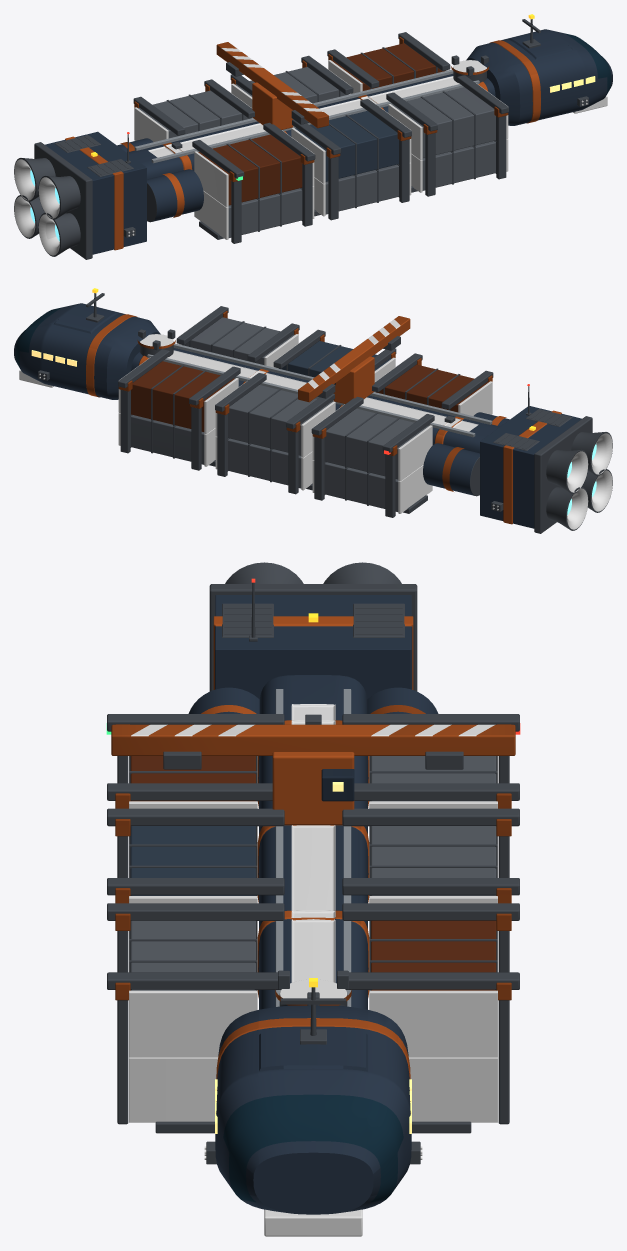
Rendered from atlas_production_v1.glb.
3 views of the same model, one above another, from view 1: azimuth 30°, elevation 25°; view 2: azimuth 150°, elevation 25°; view 3: azimuth 270°, elevation 25° (orthographic). The views are drawn at different scales.
Parts seen in each view (by area): view 1: LOD0_Mechanical, LOD0_Hull, LOD0_Armor, LOD0_MechanicalDark, LOD0_Armor_orange, LOD0_Armor_navy, LOD0_HOOK_SECONDARY_CRANE_Warning, LOD0_Livery, LOD0_BrushedMetal, LOD0_Warning, LOD0_CANOPY, LOD0_HOOK_SECONDARY_CRANE_MechanicalDark; view 2: LOD0_Mechanical, LOD0_Hull, LOD0_Armor, LOD0_MechanicalDark, LOD0_Armor_orange, LOD0_HOOK_SECONDARY_CRANE_Warning, LOD0_Livery, LOD0_BrushedMetal, LOD0_Armor_navy, LOD0_Warning, LOD0_CANOPY; view 3: LOD0_Mechanical, LOD0_Hull, LOD0_MechanicalDark, LOD0_Armor, LOD0_HOOK_SECONDARY_CRANE_Warning, LOD0_CANOPY, LOD0_Armor_orange, LOD0_Armor_navy, LOD0_Livery, LOD0_Warning, LOD0_BrushedMetal, LOD0_HOOK_SECONDARY_CRANE_Mechanical (+3 smaller).
Part boxes in pixels (x1,y1,x2,y2): LOD0_Mechanical: [14, 32, 588, 259]; LOD0_Hull: [45, 29, 612, 254]; LOD0_Armor: [138, 67, 495, 237]; LOD0_MechanicalDark: [14, 39, 607, 255]; LOD0_Armor_orange: [198, 43, 445, 205]; LOD0_Armor_navy: [295, 111, 398, 181]; LOD0_HOOK_SECONDARY_CRANE_Warning: [216, 42, 328, 129]; LOD0_Livery: [65, 40, 540, 250]; LOD0_BrushedMetal: [134, 69, 479, 163]; LOD0_Warning: [134, 37, 508, 181]; LOD0_CANOPY: [564, 33, 611, 95]; LOD0_HOOK_SECONDARY_CRANE_MechanicalDark: [221, 48, 323, 111]; LOD0_Mechanical: [38, 306, 612, 533]; LOD0_Hull: [14, 303, 581, 528]; LOD0_Armor: [131, 317, 428, 511]; LOD0_MechanicalDark: [19, 313, 612, 529]; LOD0_Armor_orange: [131, 361, 488, 431]; LOD0_HOOK_SECONDARY_CRANE_Warning: [298, 316, 410, 403]; LOD0_Livery: [86, 314, 561, 524]; LOD0_BrushedMetal: [147, 343, 492, 437]; LOD0_Armor_navy: [278, 341, 391, 377]; LOD0_Warning: [118, 311, 492, 455]; LOD0_CANOPY: [15, 307, 62, 369]; LOD0_Mechanical: [107, 562, 519, 1164]; LOD0_Hull: [188, 595, 438, 1214]; LOD0_MechanicalDark: [129, 704, 497, 1236]; LOD0_Armor: [130, 756, 496, 990]; LOD0_HOOK_SECONDARY_CRANE_Warning: [111, 724, 515, 825]; LOD0_CANOPY: [223, 1094, 403, 1202]; LOD0_Armor_orange: [130, 756, 496, 990]; LOD0_Armor_navy: [130, 826, 255, 895]; LOD0_Livery: [201, 616, 425, 1079]; LOD0_Warning: [115, 724, 511, 1005]; LOD0_BrushedMetal: [275, 689, 351, 1006]; LOD0_HOOK_SECONDARY_CRANE_Mechanical: [163, 751, 463, 769].
Size of what is drawn, in the model's own units: 23.72 by 4.49 by 7.58.
Materials: 15 (9 with a texture image).
